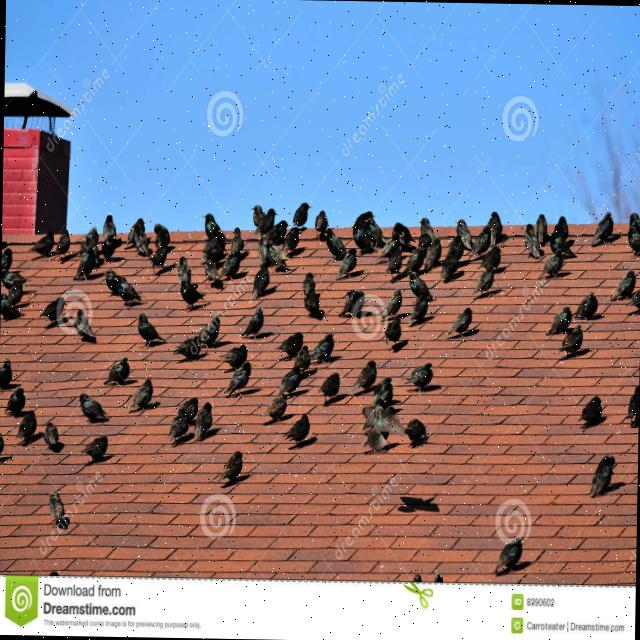bird: (360, 404, 405, 453), (351, 209, 386, 257), (54, 288, 94, 330), (468, 210, 502, 259), (167, 395, 198, 447), (390, 242, 428, 284), (472, 245, 502, 298), (218, 226, 244, 280), (588, 453, 618, 499), (418, 217, 443, 270), (404, 233, 432, 280), (493, 535, 524, 577), (76, 391, 112, 426), (134, 311, 167, 349), (223, 360, 252, 399), (282, 411, 312, 448), (125, 217, 152, 258), (608, 268, 638, 304), (318, 226, 348, 262), (126, 377, 154, 415), (350, 358, 378, 396), (218, 448, 245, 487), (114, 275, 144, 310), (71, 306, 98, 344), (557, 323, 584, 361), (405, 360, 434, 395), (446, 304, 474, 340), (46, 489, 70, 531), (200, 211, 228, 247), (466, 224, 492, 262), (544, 304, 573, 338), (14, 407, 38, 448), (378, 286, 404, 323), (72, 245, 98, 282), (174, 332, 206, 362), (103, 354, 131, 388), (177, 278, 205, 312), (308, 332, 336, 366), (199, 311, 224, 349), (378, 237, 403, 275), (192, 401, 214, 444), (150, 222, 172, 265), (100, 213, 120, 260), (300, 272, 322, 314), (590, 209, 614, 247), (370, 374, 396, 409), (220, 342, 250, 372), (572, 290, 600, 322), (338, 288, 366, 320), (578, 393, 604, 427), (264, 388, 289, 423), (28, 228, 56, 259), (406, 292, 430, 328), (267, 242, 294, 274), (522, 222, 544, 261), (548, 214, 570, 253), (240, 306, 265, 340), (251, 203, 276, 237), (334, 247, 358, 282), (82, 432, 109, 463), (402, 416, 428, 448), (408, 270, 434, 302), (391, 220, 417, 252), (318, 370, 341, 406), (3, 384, 27, 418), (277, 330, 304, 360), (250, 262, 270, 302), (202, 232, 226, 265), (78, 225, 102, 258), (264, 218, 288, 250), (278, 367, 303, 397), (42, 418, 64, 452), (282, 224, 304, 258), (625, 210, 640, 258), (454, 217, 474, 253), (542, 248, 566, 278), (148, 238, 170, 270), (0, 294, 24, 323), (200, 254, 223, 284), (102, 266, 124, 297), (290, 200, 312, 231), (382, 316, 403, 348), (550, 228, 574, 256), (54, 228, 72, 262), (292, 344, 312, 374), (1, 269, 29, 290), (626, 384, 639, 428), (534, 214, 550, 248), (0, 355, 14, 393), (176, 255, 192, 288), (625, 287, 640, 316), (0, 246, 14, 276), (314, 208, 328, 236), (0, 431, 5, 456)
